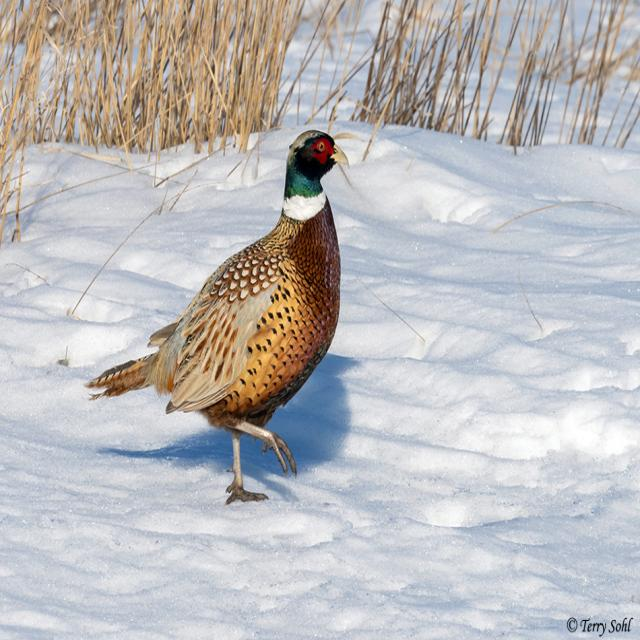pheasant: (85, 127, 352, 507)
